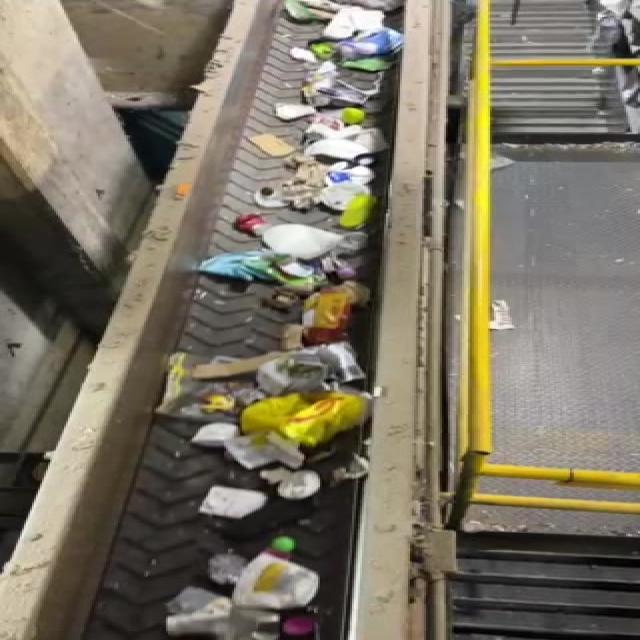paper: (177, 488, 285, 527)
pp: (237, 534, 331, 604), (243, 393, 372, 444), (272, 471, 322, 506)
